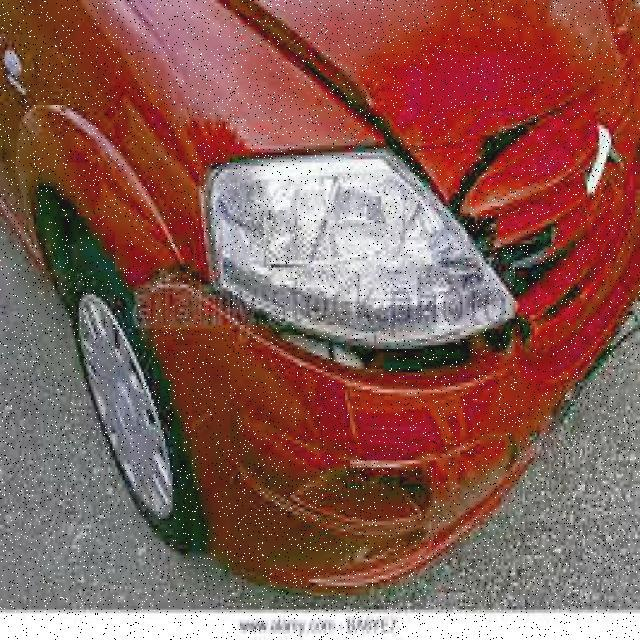car damage: (129, 5, 574, 400)
